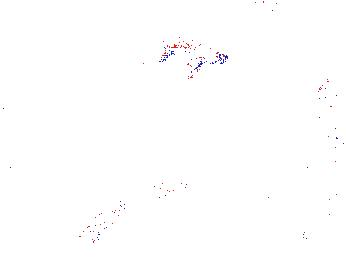glassfish: (89, 178, 191, 229), (313, 68, 346, 108)
redtail glassfish: (152, 38, 229, 74), (248, 1, 311, 20)
